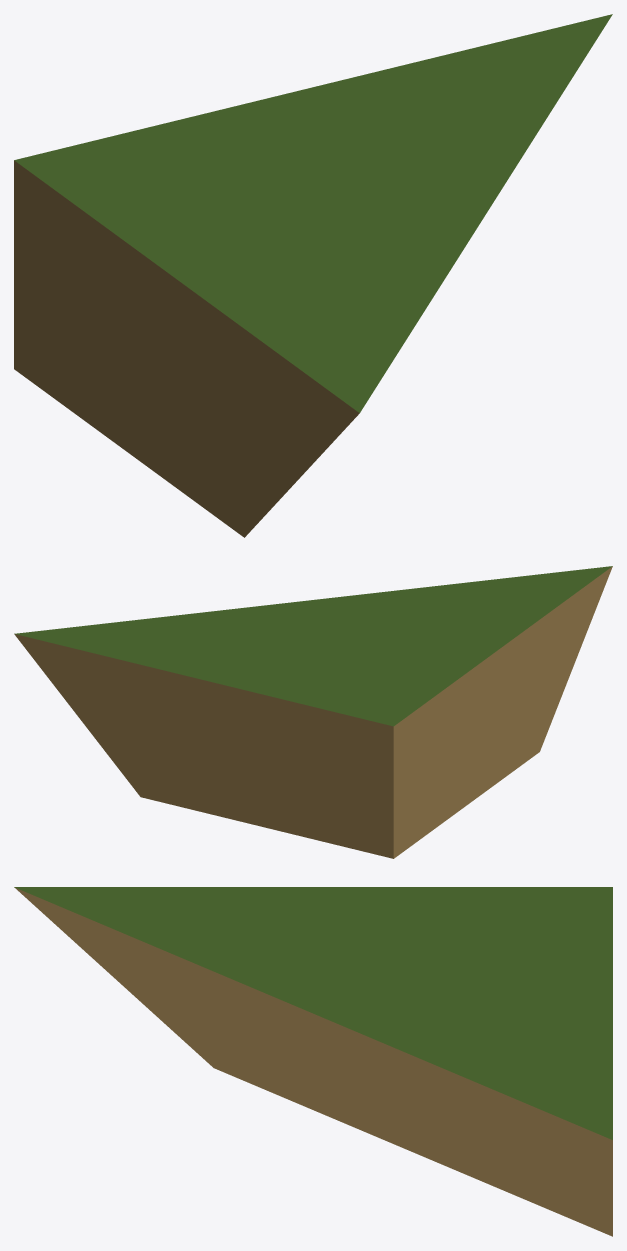
The model's file is Terrain_Tile_Grass_Dirt_Ledge_Corner_01.fbx.
3 renders of one model, top to bottom at view 1: azimuth 30°, elevation 25°; view 2: azimuth 150°, elevation 25°; view 3: azimuth 270°, elevation 25°, orthographic. The views are drawn at different scales.
Visible parts, largest first — view 1: Terrain_Tile_Grass_Dirt_Ledge_Corner_01; view 2: Terrain_Tile_Grass_Dirt_Ledge_Corner_01; view 3: Terrain_Tile_Grass_Dirt_Ledge_Corner_01.
Boxes of the visible parts, bbox=[...] form: Terrain_Tile_Grass_Dirt_Ledge_Corner_01: bbox=[14, 14, 612, 537]; Terrain_Tile_Grass_Dirt_Ledge_Corner_01: bbox=[14, 566, 612, 858]; Terrain_Tile_Grass_Dirt_Ledge_Corner_01: bbox=[14, 887, 612, 1236].
Bounding box in the file's own units: 47.24 × 15.75 × 47.24.
